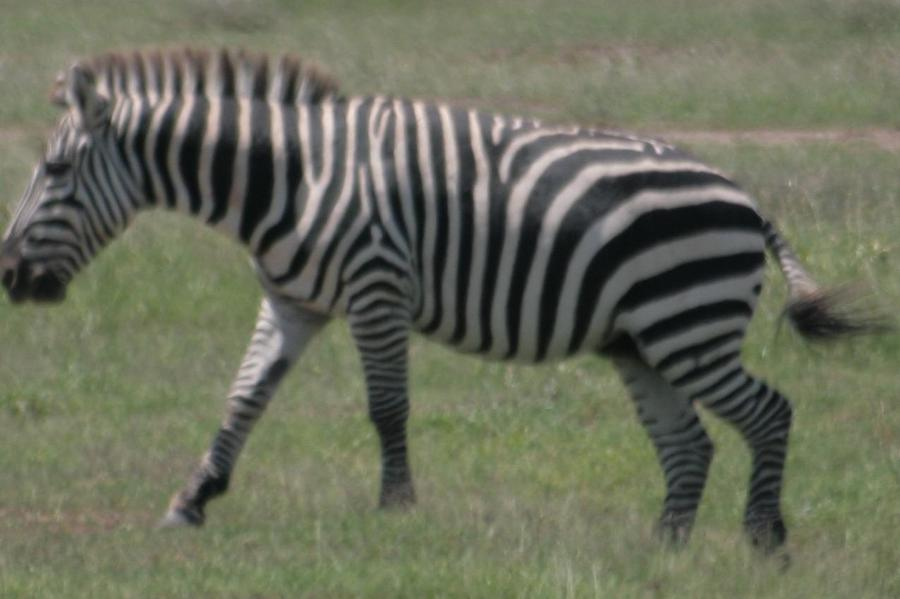zebra_plains: (301, 68, 762, 421)
